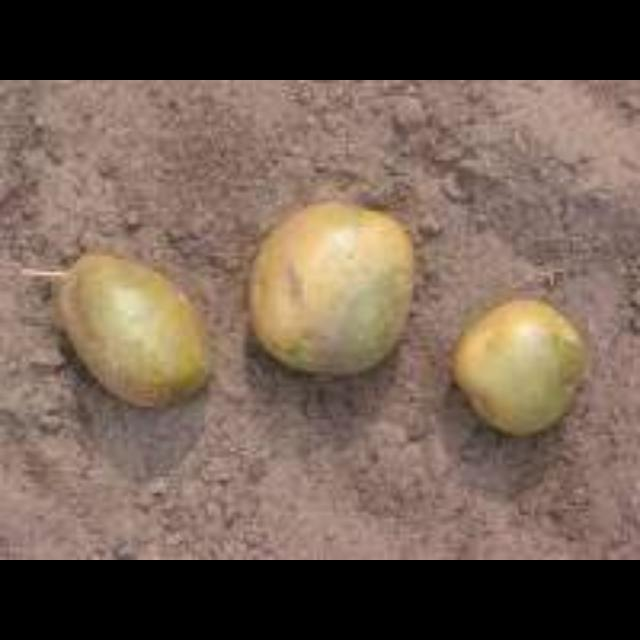Defected potato: (242, 199, 422, 379), (42, 254, 216, 406), (452, 285, 600, 447)
